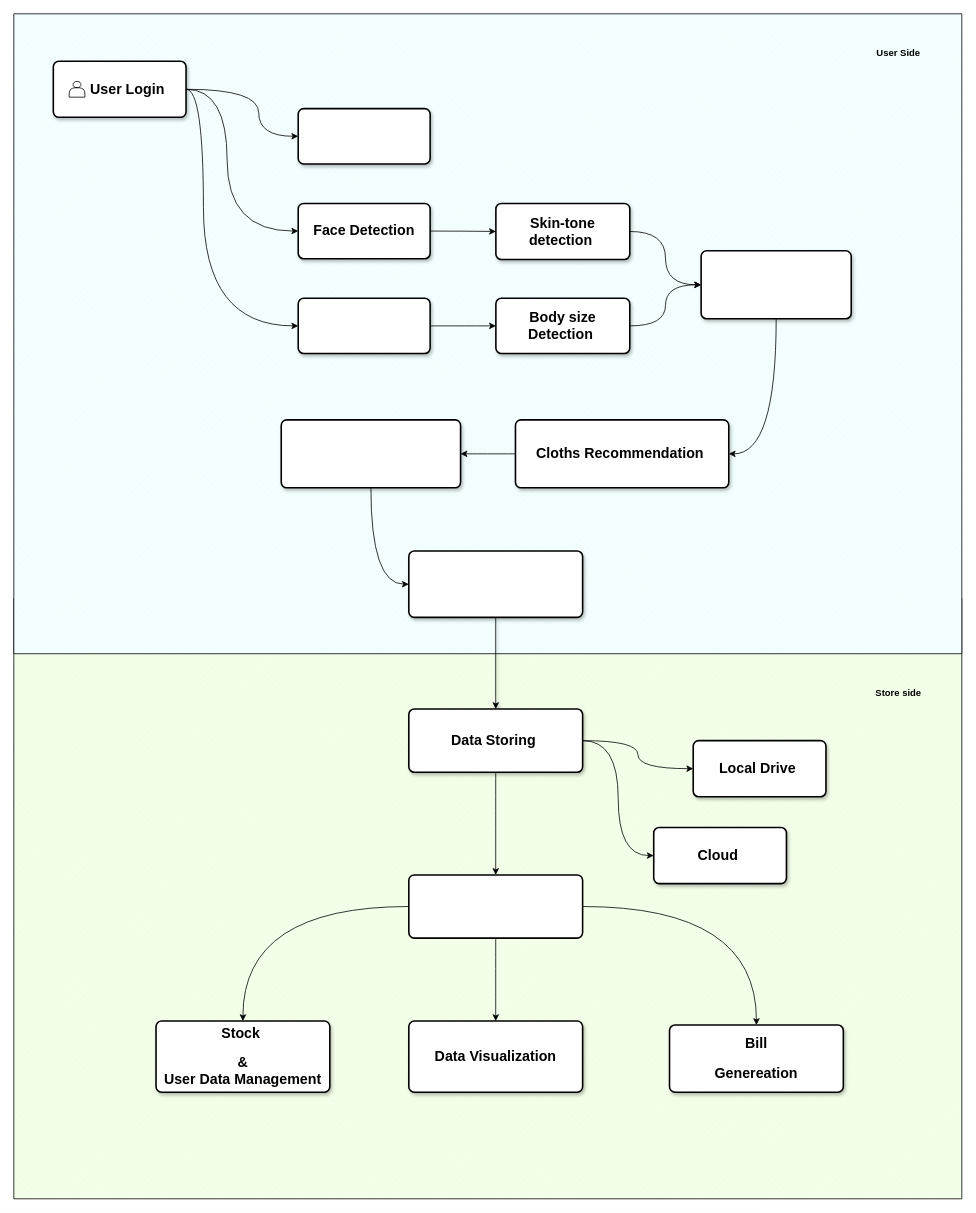
This 976x1213 diagram has some shape labels left out. The centre of each missing label's shape, as x and y in pixels:
Body pose Detection: pixel 364 326
Checkout: pixel 496 585
cloths selection: pixel 776 285
Creating Pickle file: pixel 364 137
Showing Virtual Trial: pixel 371 455
Store side Management: pixel 495 906
